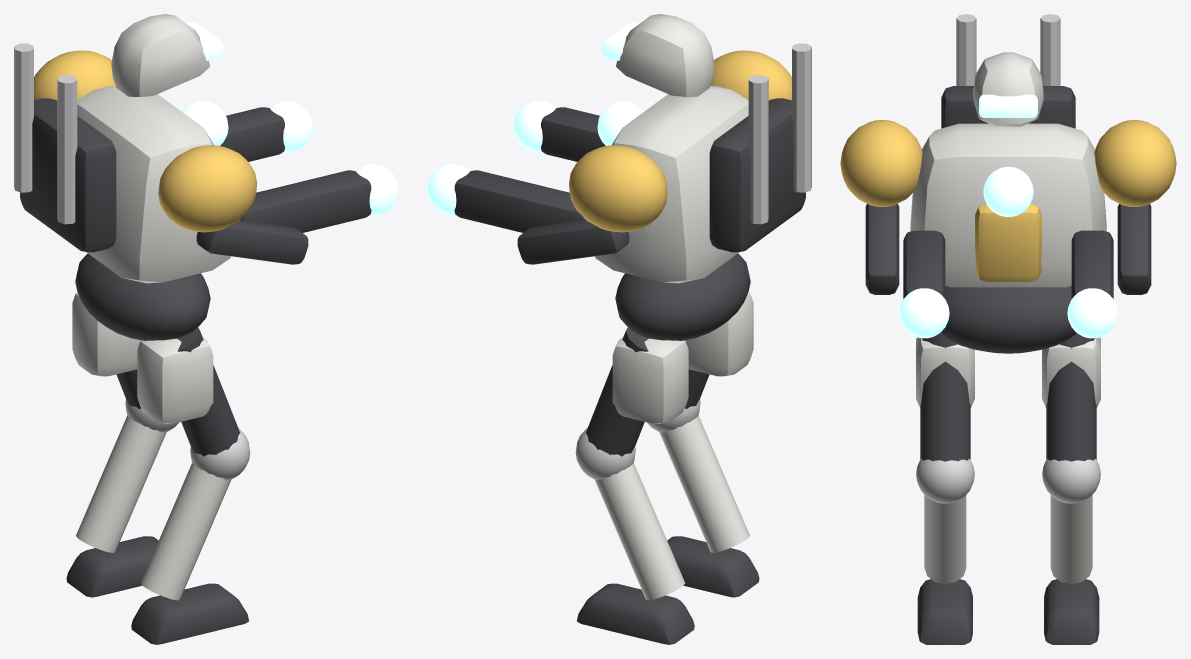
Rendered from rob_smg.glb.
3 renders of one model, left to right at view 1: azimuth 30°, elevation 25°; view 2: azimuth 150°, elevation 25°; view 3: azimuth 270°, elevation 25°, orthographic. The views are drawn at different scales.
Visible parts, largest first — view 1: torso_m, knee_r_m, knee_l_m, leg_r_m, leg_l_m; view 2: torso_m, knee_l_m, knee_r_m, leg_l_m, leg_r_m; view 3: torso_m, knee_l_m, knee_r_m, leg_l_m, leg_r_m.
Boxes of the visible parts, <box> form: torso_m: <box>14,14,398,340</box>; knee_r_m: <box>131,427,250,644</box>; knee_l_m: <box>66,399,178,597</box>; leg_r_m: <box>137,327,239,456</box>; leg_l_m: <box>72,292,141,409</box>; torso_m: <box>427,14,811,340</box>; knee_l_m: <box>575,427,694,644</box>; knee_r_m: <box>647,399,759,597</box>; leg_l_m: <box>586,327,688,456</box>; leg_r_m: <box>684,292,753,409</box>; torso_m: <box>840,14,1176,353</box>; knee_l_m: <box>1042,459,1100,644</box>; knee_r_m: <box>916,459,974,644</box>; leg_l_m: <box>1042,333,1100,461</box>; leg_r_m: <box>916,333,974,461</box>.
Size of the model in its own units: 0.422 by 0.746 by 0.4.
